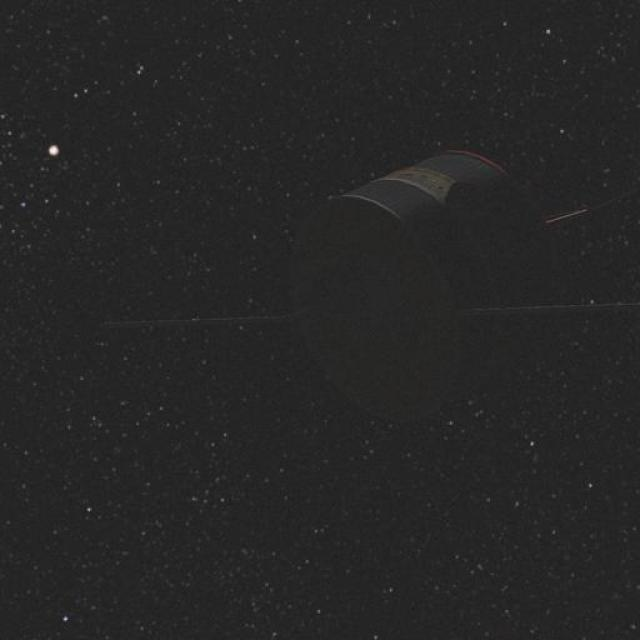double_start: (230, 127, 610, 446)
